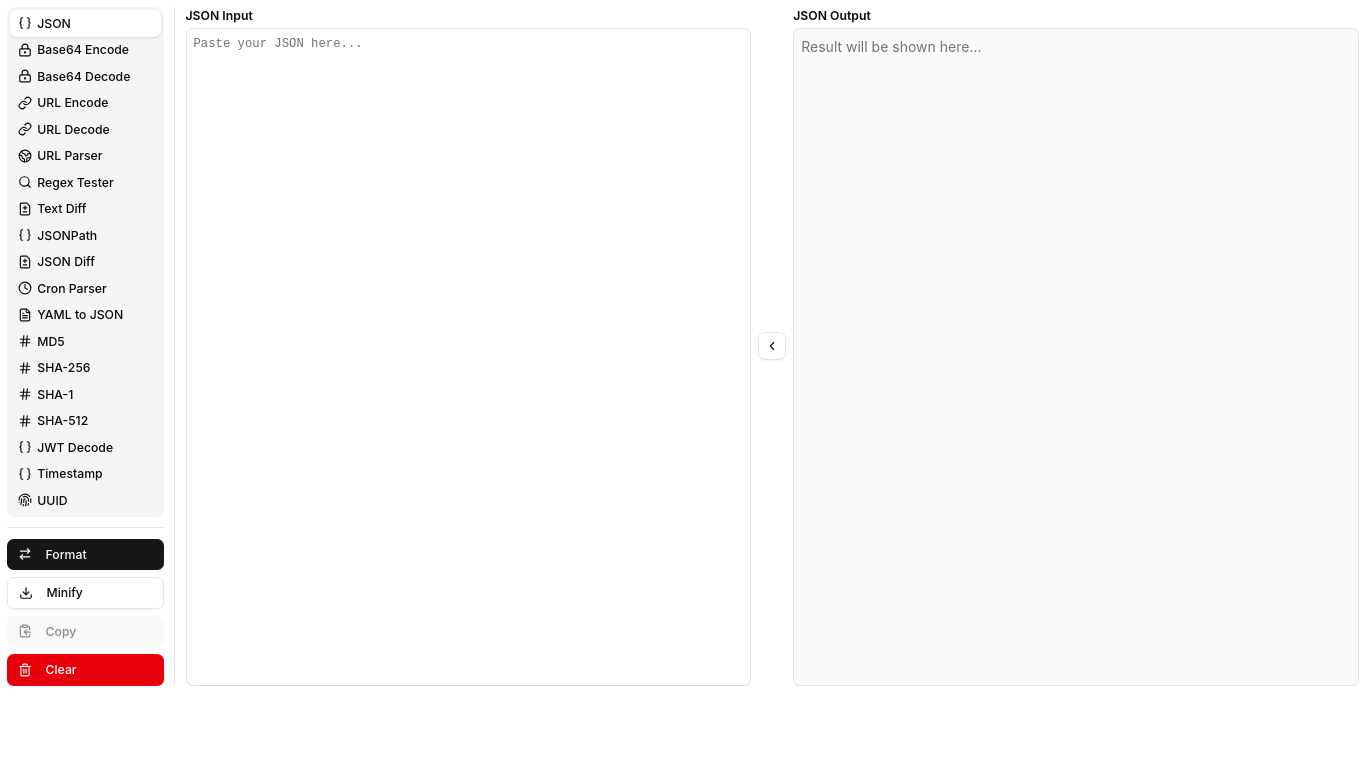
Test: JsonToolsView text tools › does not show a Base64 error when opening decode with empty input
The width and height of the screenshot is (1366, 768).
Click the tab "Base64 Decode" at (85, 76), box [10, 63, 160, 90]
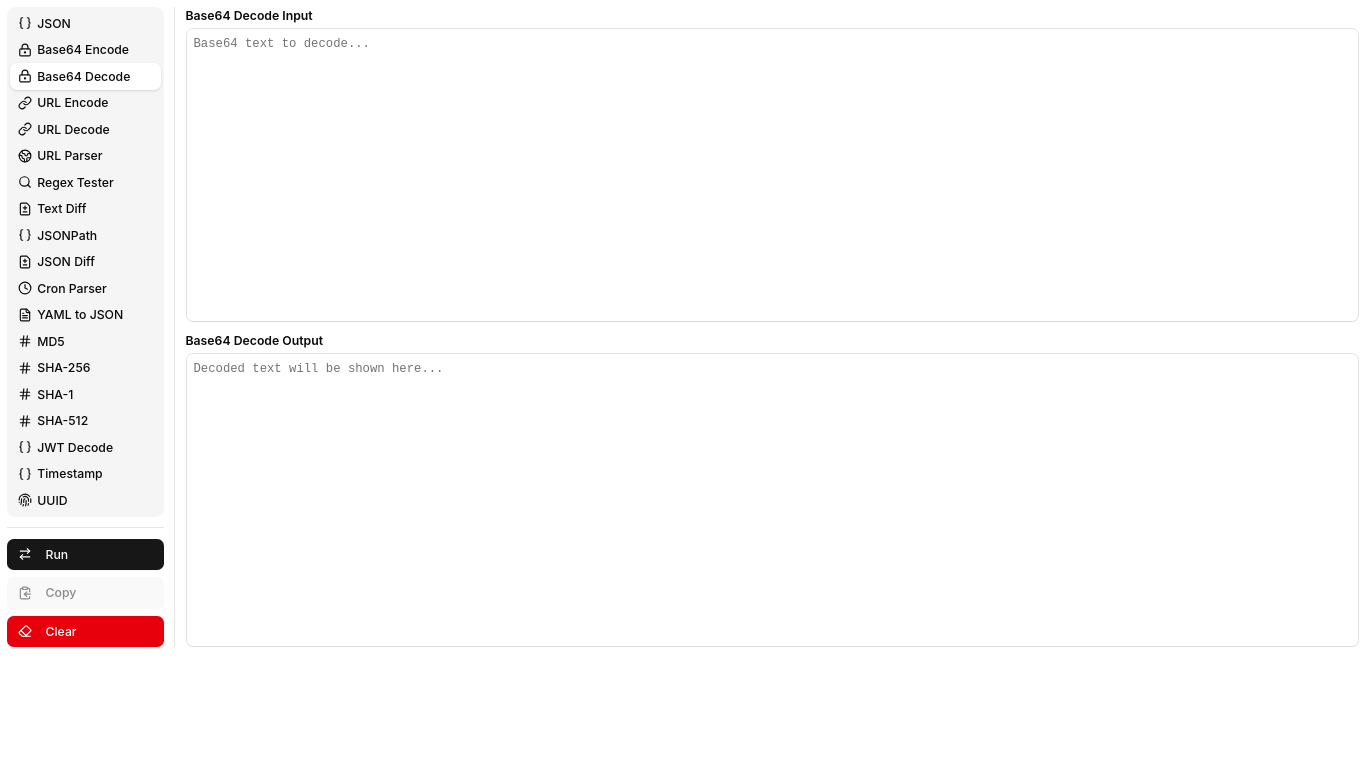
Click the button "Run" at (85, 554), box [7, 538, 164, 570]
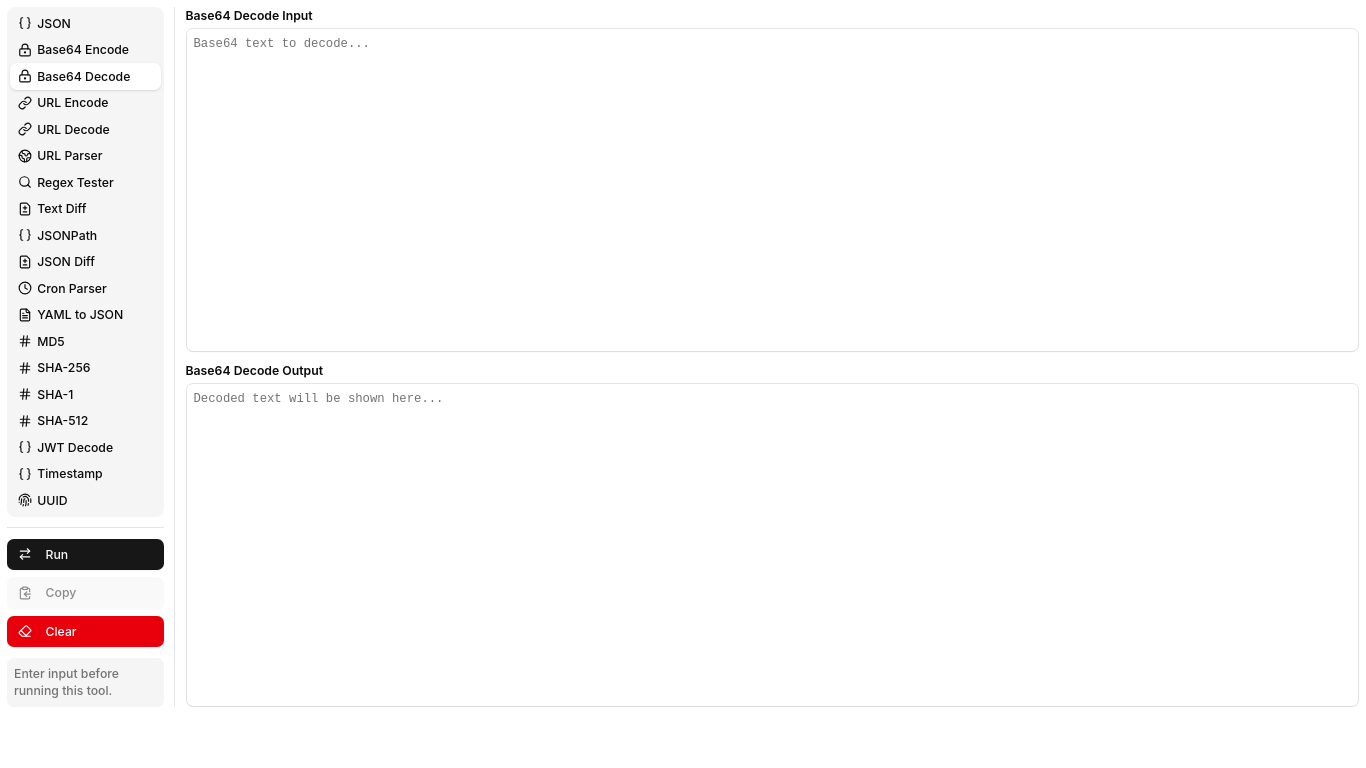
Result: the text "Enter input before running this tool." is shown at [7, 658, 164, 706]
